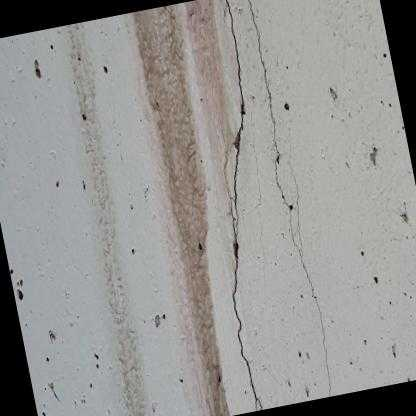crack: (244, 0, 334, 397), (224, 0, 263, 410)
